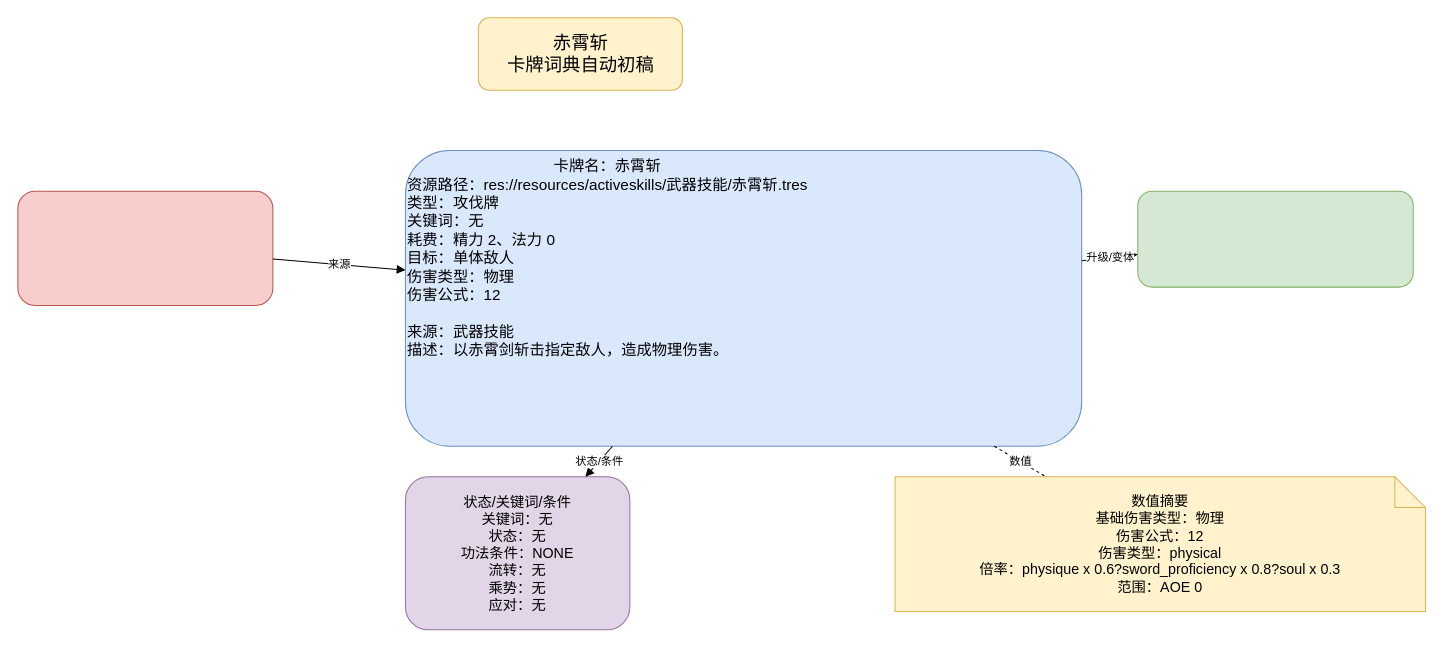
Image size: 1443x648. Some labels were removed from this diagram. Here are the shapes that lost their labels. From the top down, the box of each, then its label:
(17, 190, 273, 305): 来源/前置 来源分类：武器技能 来源秘籍：无 可在此补：前置牌 / 被替换牌 / 基础牌来源
(1137, 190, 1413, 287): 升级/变体预留 可在此补：升级牌 / 主修强化版 / 化法后新牌 同系：武器技能
